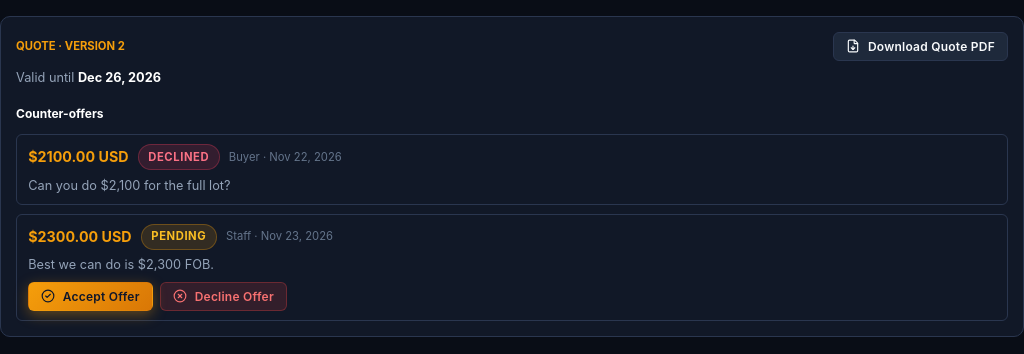
Test: QuotePanel — staff actions › lets staff accept a pending counter-offer
Click the button "Accept Offer".
click(90, 296)  # box left=28, top=282, right=153, bottom=311
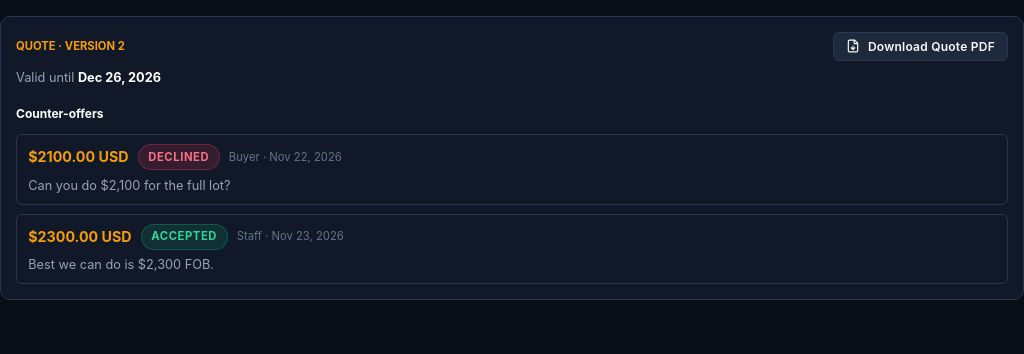
Result: the text "accepted" is shown at left=141, top=224, right=228, bottom=250
